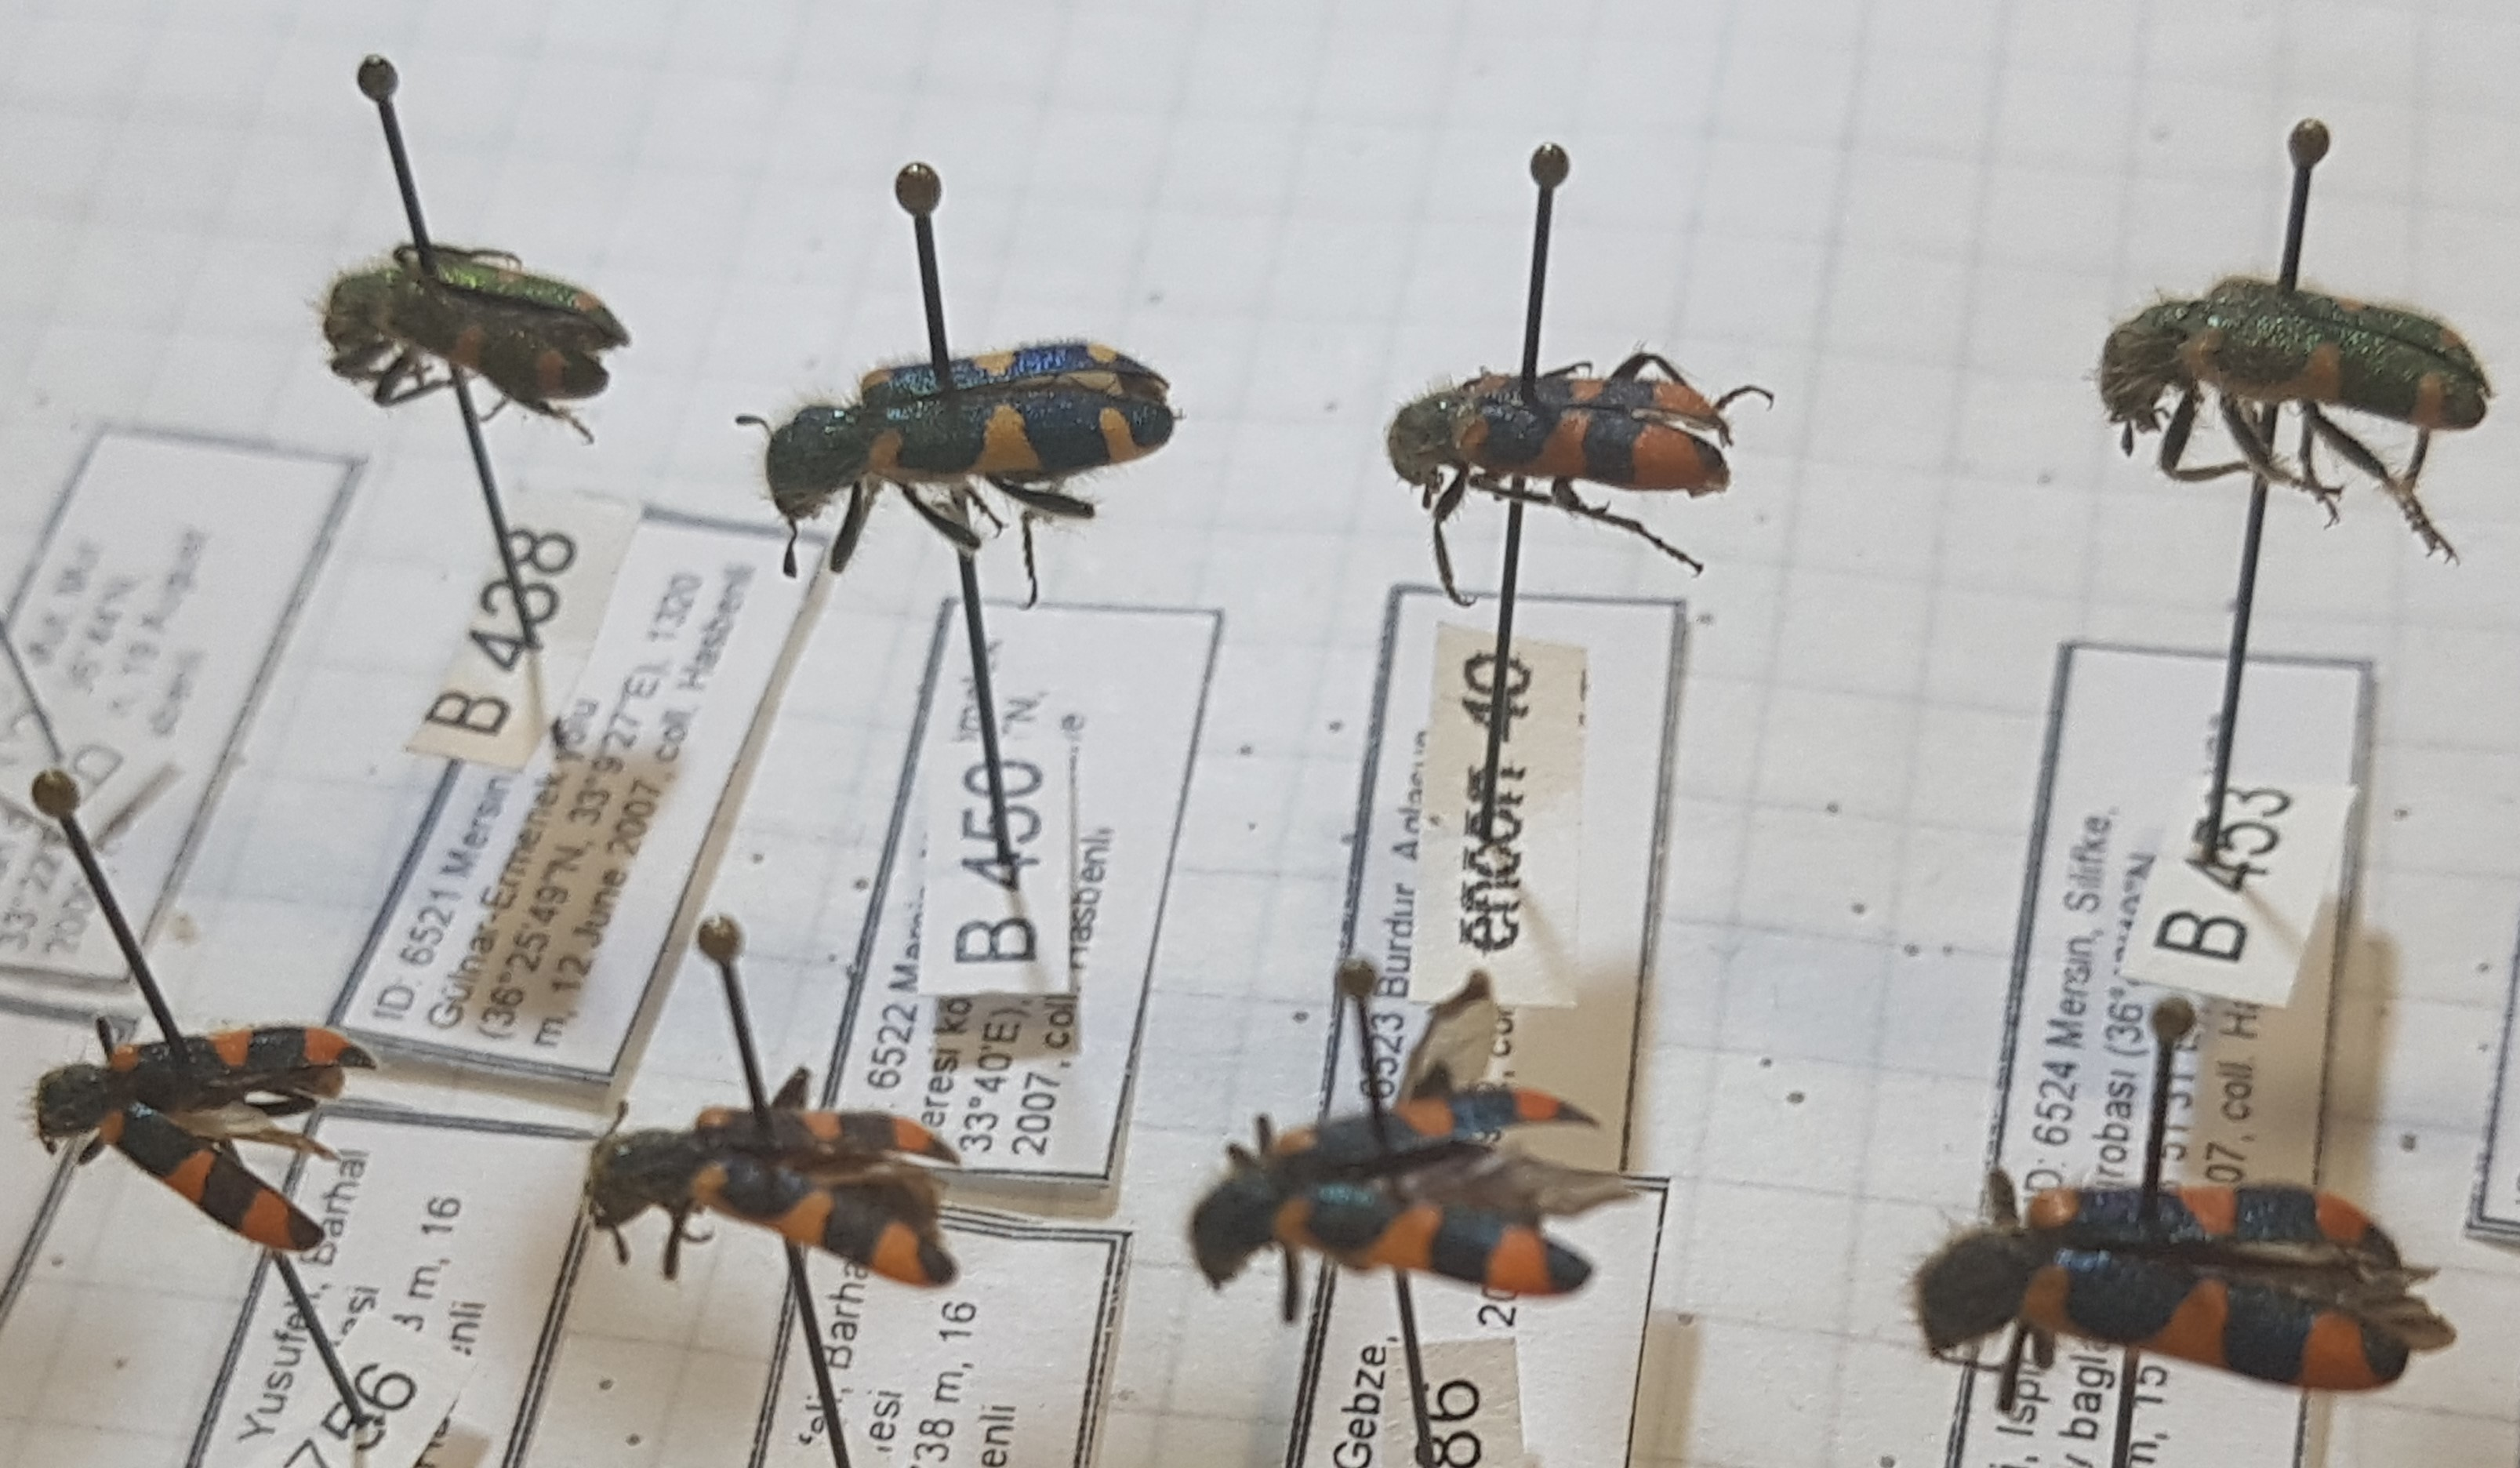trichodes_holtzi: (1907, 1136, 2447, 1414), (1369, 334, 1787, 610), (735, 336, 1182, 592), (23, 1017, 400, 1246), (314, 234, 648, 442)
